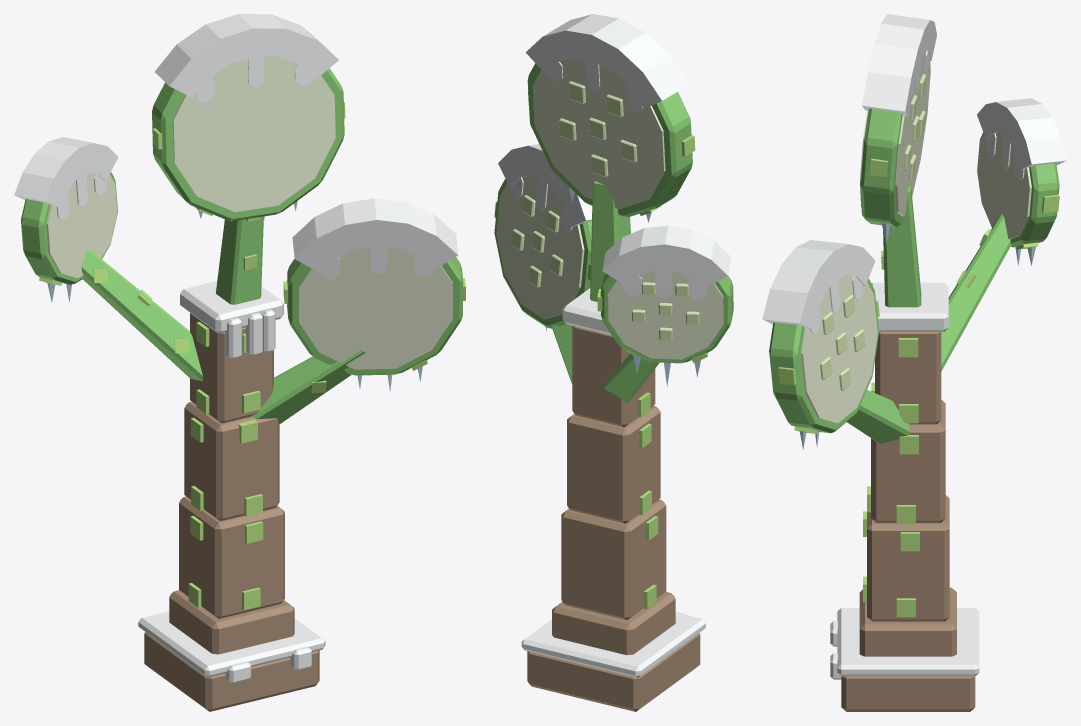
The model's file is SnowFrozenTree.fbx.
3 renders of one model, left to right at view 1: azimuth 30°, elevation 25°; view 2: azimuth 150°, elevation 25°; view 3: azimuth 270°, elevation 25°, orthographic. The views are drawn at different scales.
Visible parts, largest first — view 1: SnowFrozenTree.Faces, SnowFrozenTree.Trunk, SnowFrozenTree.Snow, SnowFrozenTree.BranchesRims, SnowFrozenTree.Studs; view 2: SnowFrozenTree.Trunk, SnowFrozenTree.Faces, SnowFrozenTree.Snow, SnowFrozenTree.BranchesRims, SnowFrozenTree.Seeds, SnowFrozenTree.Studs; view 3: SnowFrozenTree.Trunk, SnowFrozenTree.Snow, SnowFrozenTree.BranchesRims, SnowFrozenTree.Faces, SnowFrozenTree.Studs, SnowFrozenTree.Seeds.
Part boxes in pixels (left/top/right/bottom): SnowFrozenTree.Faces: left=46, top=56, right=452, bottom=369; SnowFrozenTree.Trunk: left=144, top=313, right=319, bottom=711; SnowFrozenTree.Snow: left=14, top=14, right=458, bottom=683; SnowFrozenTree.BranchesRims: left=21, top=68, right=463, bottom=424; SnowFrozenTree.Studs: left=39, top=102, right=465, bottom=610; SnowFrozenTree.Trunk: left=527, top=325, right=700, bottom=711; SnowFrozenTree.Faces: left=496, top=58, right=723, bottom=359; SnowFrozenTree.Snow: left=498, top=14, right=731, bottom=677; SnowFrozenTree.BranchesRims: left=494, top=63, right=733, bottom=402; SnowFrozenTree.Seeds: left=511, top=81, right=699, bottom=340; SnowFrozenTree.Studs: left=494, top=91, right=708, bottom=609; SnowFrozenTree.Trunk: left=841, top=332, right=975, bottom=711; SnowFrozenTree.Snow: left=762, top=14, right=1066, bottom=679; SnowFrozenTree.BranchesRims: left=769, top=108, right=1059, bottom=443; SnowFrozenTree.Faces: left=801, top=50, right=1059, bottom=423; SnowFrozenTree.Studs: left=778, top=158, right=1059, bottom=617; SnowFrozenTree.Seeds: left=820, top=74, right=925, bottom=390.
Size of the model in its own units: 6.22 by 11.35 by 4.7.
